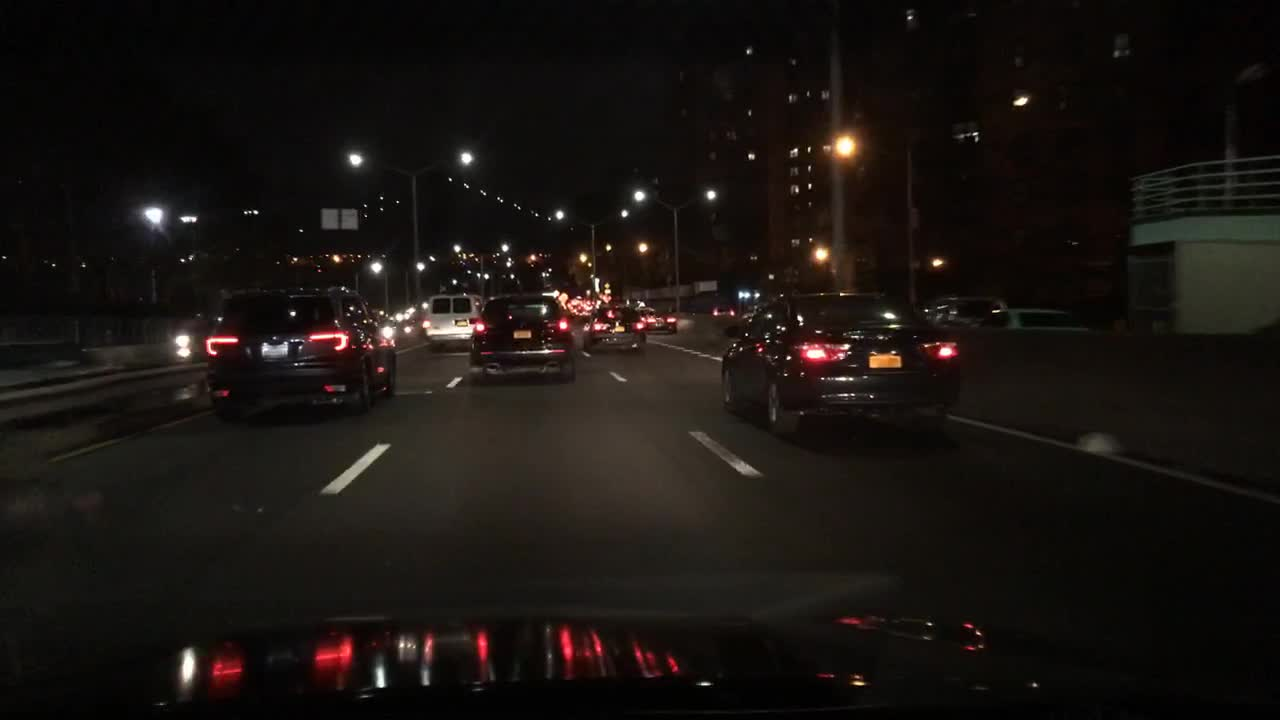car: (716, 287, 967, 440), (200, 282, 399, 431), (466, 289, 579, 389), (419, 290, 486, 355), (579, 302, 650, 353), (970, 305, 1092, 333), (920, 295, 1007, 328), (168, 315, 219, 365), (370, 305, 408, 351), (635, 303, 678, 332), (391, 305, 420, 340), (709, 300, 737, 318), (565, 297, 594, 314)
traffic sign: (322, 209, 359, 230), (604, 283, 613, 294)
